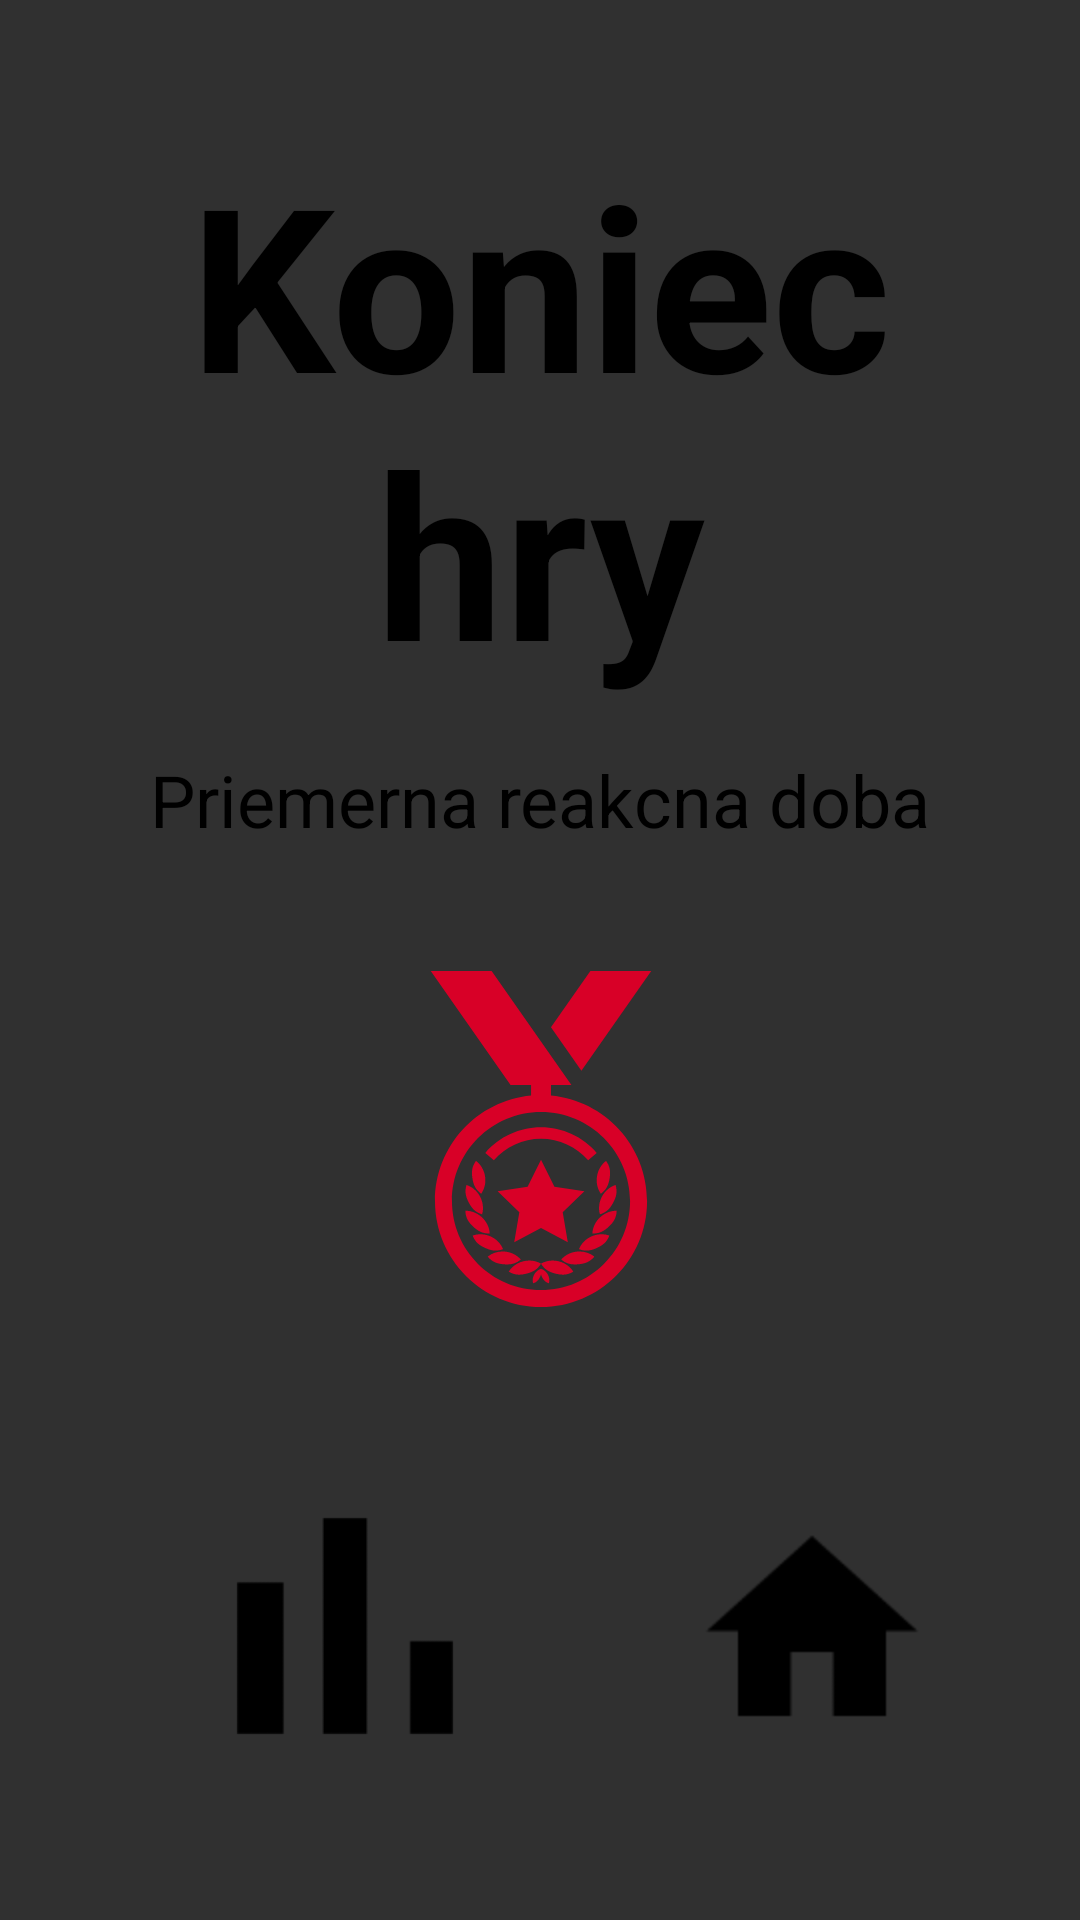

Where icons sit on this 1080×1920 app screen, as [x1, y1, x2, y2]:
bar chart: [237, 1518, 453, 1734]
home: [709, 1537, 915, 1716]
